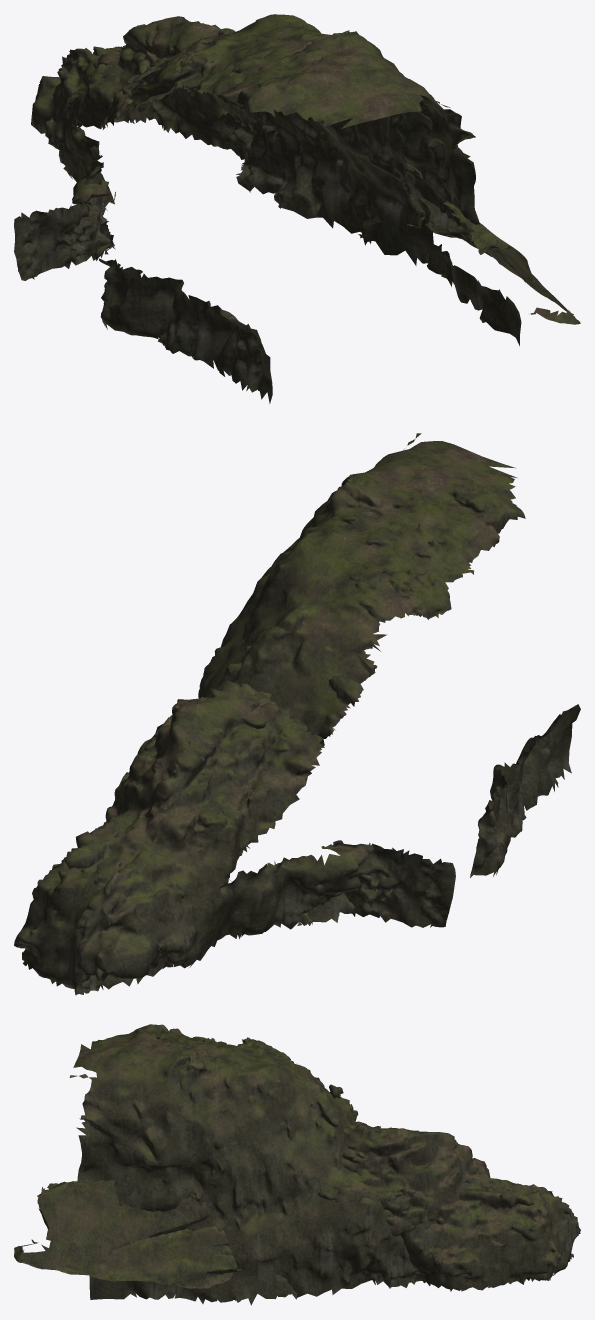
Rendered from cliffs_hero.glb.
3 renders of one model, top to bottom at view 1: azimuth 30°, elevation 25°; view 2: azimuth 150°, elevation 25°; view 3: azimuth 270°, elevation 25°, orthographic. The views are drawn at different scales.
Parts seen in each view (by area): view 1: Cliffs_HERO_web; view 2: Cliffs_HERO_web; view 3: Cliffs_HERO_web.
Part boxes in pixels (left/top/right/bottom): Cliffs_HERO_web: left=14, top=14, right=580, bottom=403; Cliffs_HERO_web: left=14, top=433, right=580, bottom=995; Cliffs_HERO_web: left=14, top=1024, right=580, bottom=1305.
Size of the model in its own units: 77.6 by 61.64 by 149.
1 material, 1 textured.
